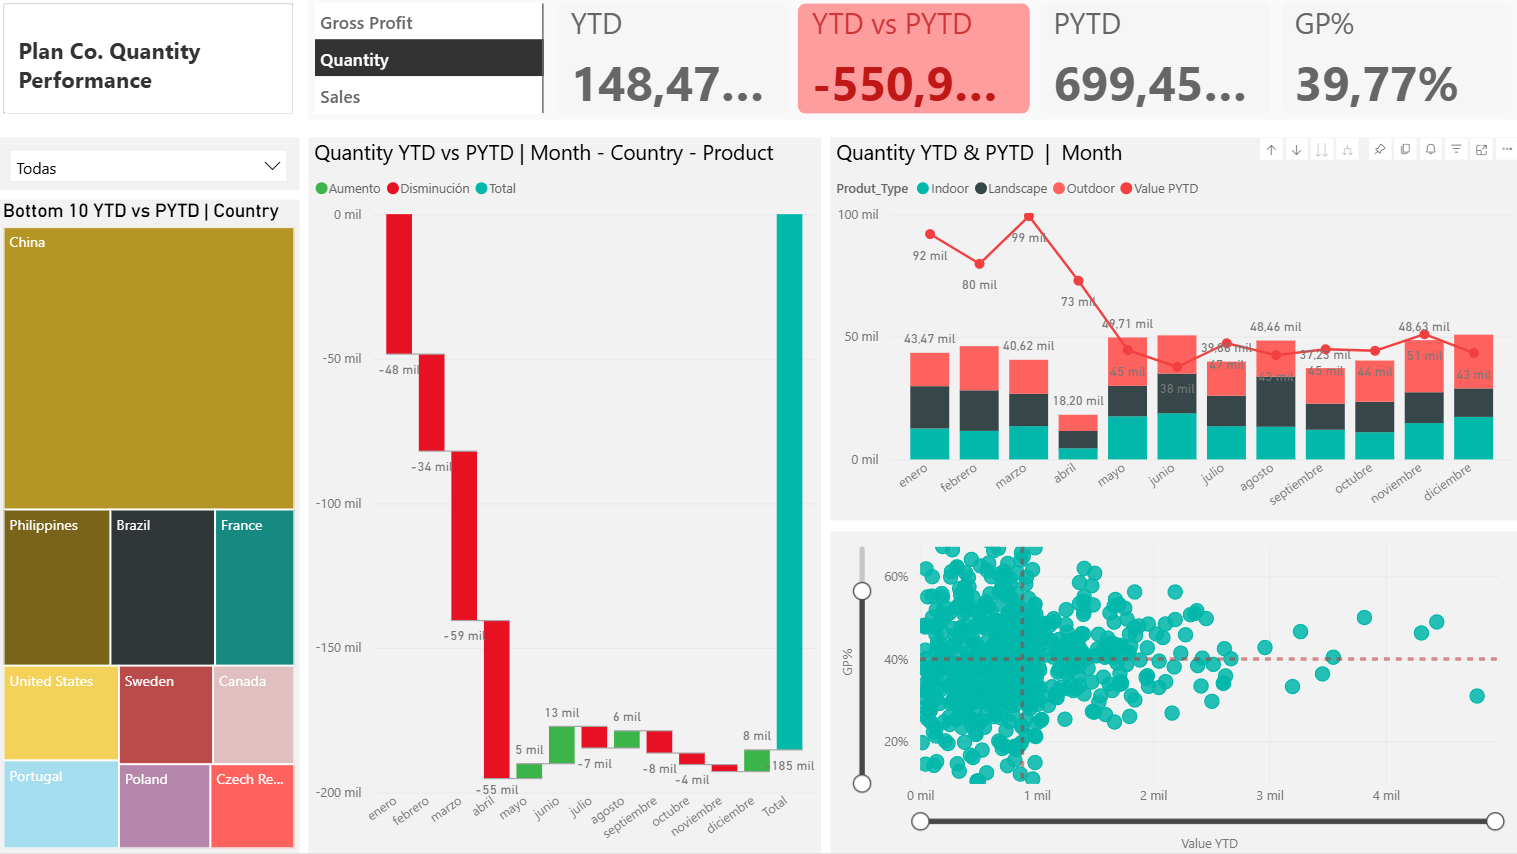

The dashboard page shown, as its layout file describes it:
{"tool":"powerbi","page":{"name":"Página 1","canvas":[1280,720],"ordinal":0},"visuals":[{"type":"advancedSlicerVisual","fields":{"Values":["Slc_Values.Values"]},"box":[262.2,0,203.3,103.3],"z":0},{"type":"slicer","title":"YTD","fields":{"Values":["Dim_Date.Date.Variación.Jerarquía de fechas.Año"]},"box":[0,117.8,254.4,44.4],"z":1000},{"type":"treemap","title":"Bottom 10 YTD vs PYTD | Country","fields":{"Values":["_Measures.YTD vs PYTD"],"Group":["Dim_Account.country"]},"box":[0,170,254.4,550],"z":2000},{"type":"waterfallChart","fields":{"Category":["Dim_Date.Date.Variación.Jerarquía de fechas.Mes","Dim_Account.country","Dim_Product.Produt_Type","Dim_Product.Product_Name"],"Y":["_Measures.YTD vs PYTD"]},"box":[262.2,117.8,431.1,602.2],"z":3000},{"type":"cardVisual","fields":{"Data":["_Measures.S_YTD","_Measures.YTD vs PYTD","_Measures.S_PYTD","_Measures.GP%"]},"box":[465.6,0,814.4,103.3],"z":4000},{"type":"lineStackedColumnComboChart","fields":{"Y":["_Measures.S_YTD"],"Y2":["_Measures.S_PYTD"],"Category":["Dim_Date.Date.Variación.Jerarquía de fechas.Trimestre","Dim_Date.Date.Variación.Jerarquía de fechas.Mes"],"Series":["Dim_Product.Produt_Type"]},"box":[701.1,117.8,578.9,322.2],"z":5000},{"type":"scatterChart","fields":{"Y":["_Measures.GP%"],"X":["_Measures.S_YTD"],"Category":["Dim_Account.Account"]},"box":[700.9,448.9,579.1,271],"z":6000},{"type":"cardVisual","fields":{"Data":["_Measures._Report title"]},"box":[0,0,254.4,103.3],"z":7000}]}

Visuals, with their boxes in screenshot pixels (x1, y1, x2, y2), scaled from the page's 1280x720 canvas onto the 1517x854 screenshot:
advancedSlicerVisual - Slc_Values.Values: 311, 0, 552, 123
"YTD" slicer: 0, 140, 302, 192
"Bottom 10 YTD vs PYTD | Country" treemap: 0, 202, 302, 853
waterfallChart - Dim_Date.Date.Variación.Jerarquía de fechas.Mes x Dim_Account.country: 311, 140, 822, 853
cardVisual - _Measures.S_YTD x _Measures.YTD vs PYTD: 552, 0, 1516, 123
lineStackedColumnComboChart - _Measures.S_YTD x _Measures.S_PYTD: 831, 140, 1516, 522
scatterChart - _Measures.GP% x _Measures.S_YTD: 831, 532, 1516, 853
cardVisual - _Measures._Report title: 0, 0, 302, 123
